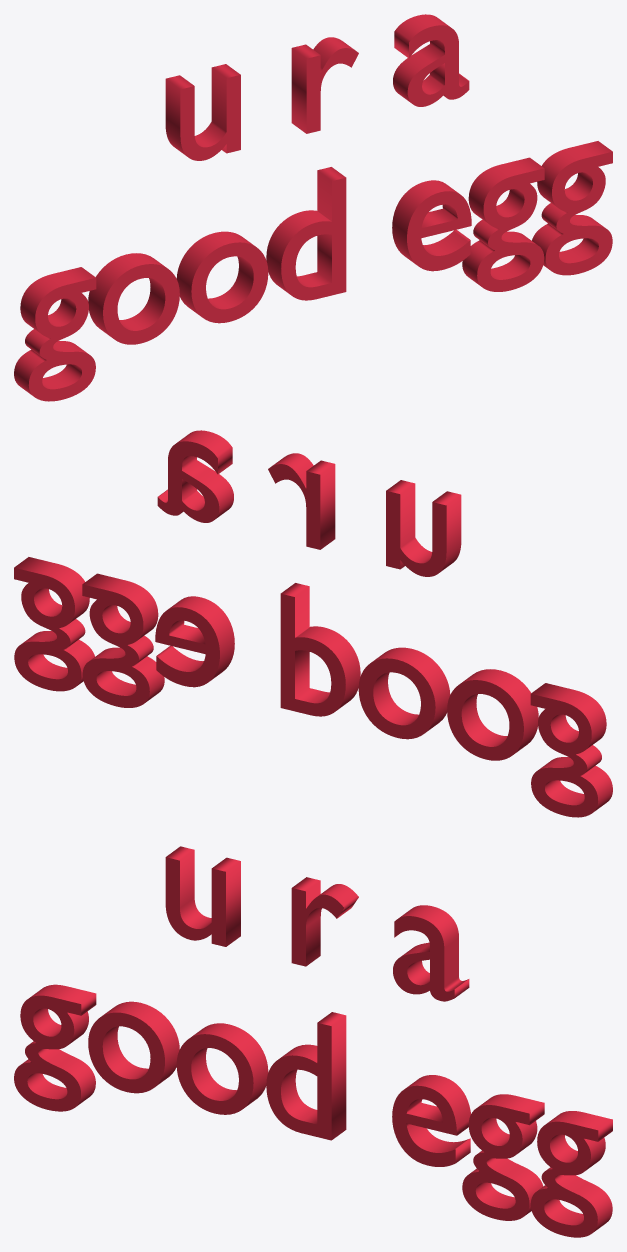
Rendered from goodegg.glb.
3 views of the same model, one above another, from view 1: azimuth 30°, elevation 25°; view 2: azimuth 150°, elevation 25°; view 3: azimuth 330°, elevation 25° (orthographic).
Parts seen in each view (by area): view 1: Object; view 2: Object; view 3: Object.
Boxes of the visible parts, x1=… form: Object: x1=14, y1=14, x2=612, y2=401; Object: x1=14, y1=430, x2=612, y2=817; Object: x1=14, y1=846, x2=612, y2=1237.
Size of the model in its own units: 22.7 by 10.51 by 0.9961.
